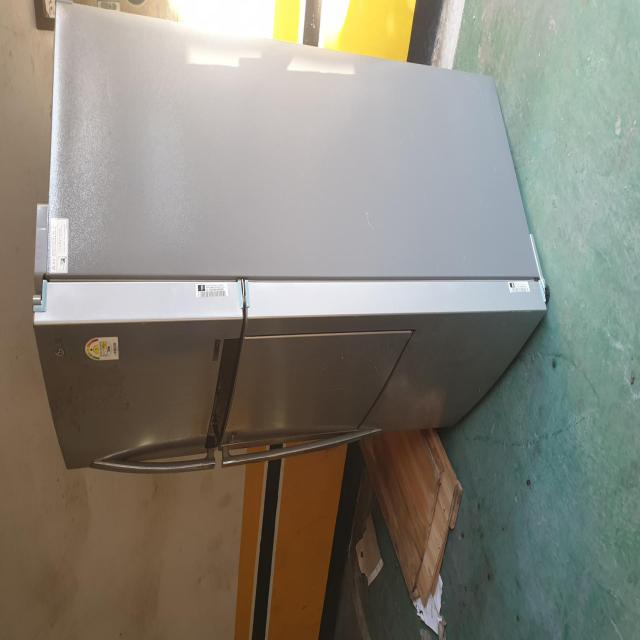refrigerator: (33, 2, 550, 474)
